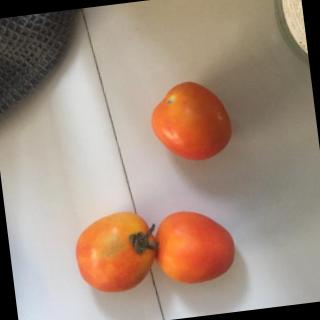Tomat: (135, 70, 257, 176), (64, 203, 162, 301), (151, 196, 243, 292)
